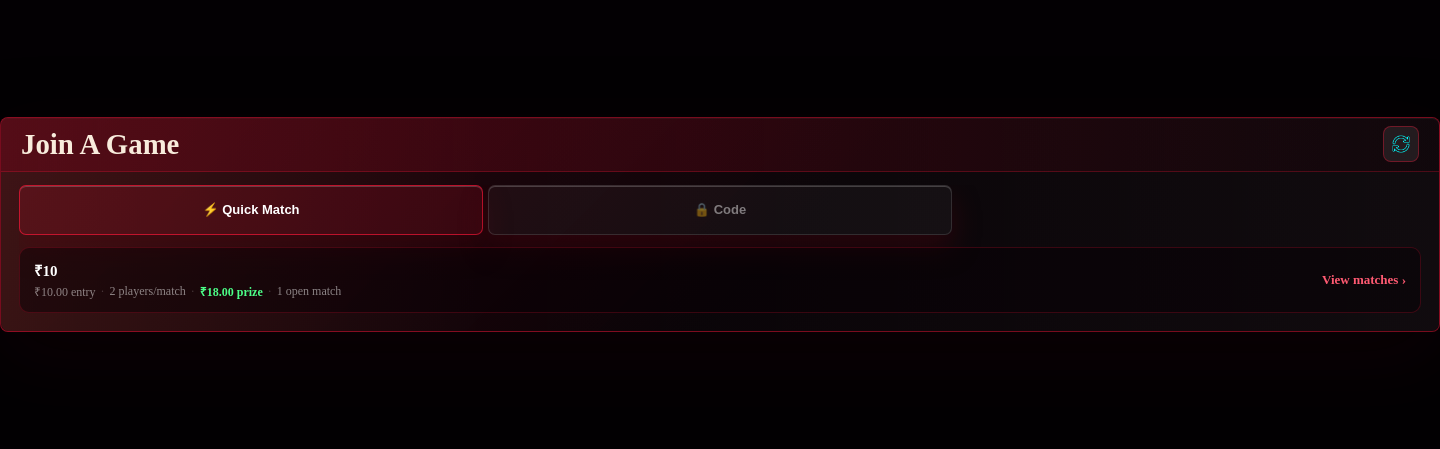
Test: Quick Match join errors › can be dismissed by the player
The image size is (1440, 449).
Click the text "₹10".
click(46, 270)  # box left=34, top=262, right=58, bottom=278
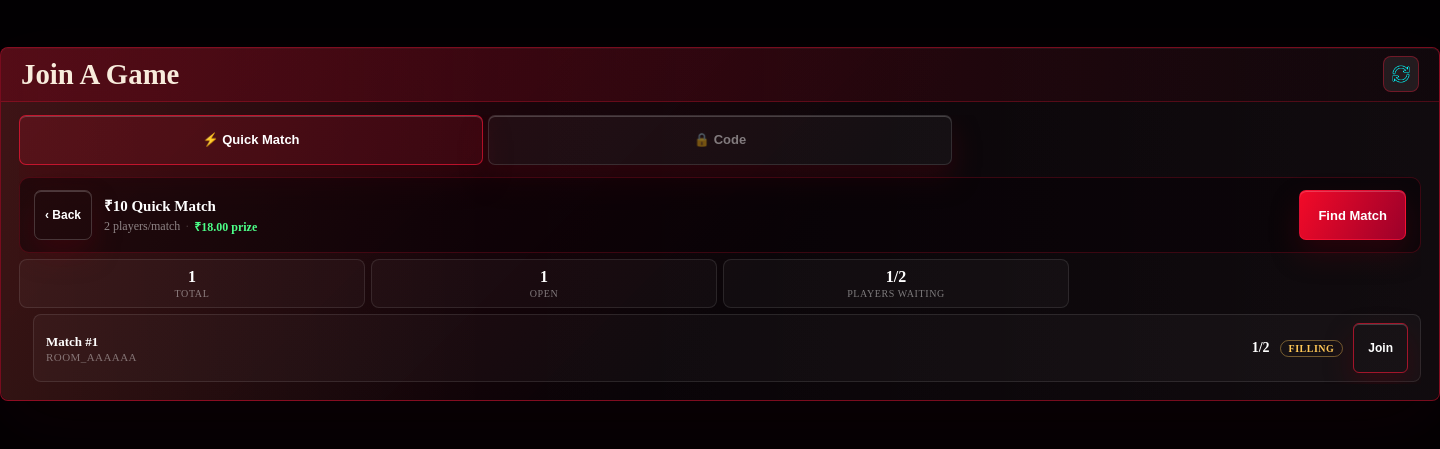
Click the button "Join".
click(1381, 348)  # box left=1353, top=323, right=1408, bottom=373
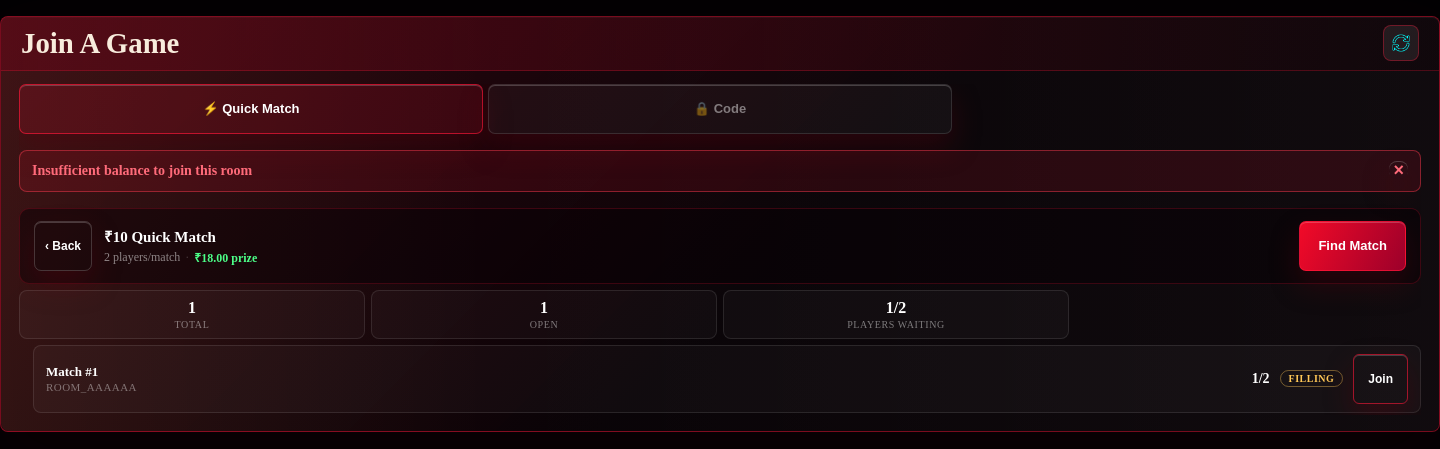
Expected: the text "Insufficient balance to join this room" is shown, left=32, top=161, right=252, bottom=181
Click the button named "Dismiss".
click(1399, 170)  # box left=1390, top=161, right=1408, bottom=179
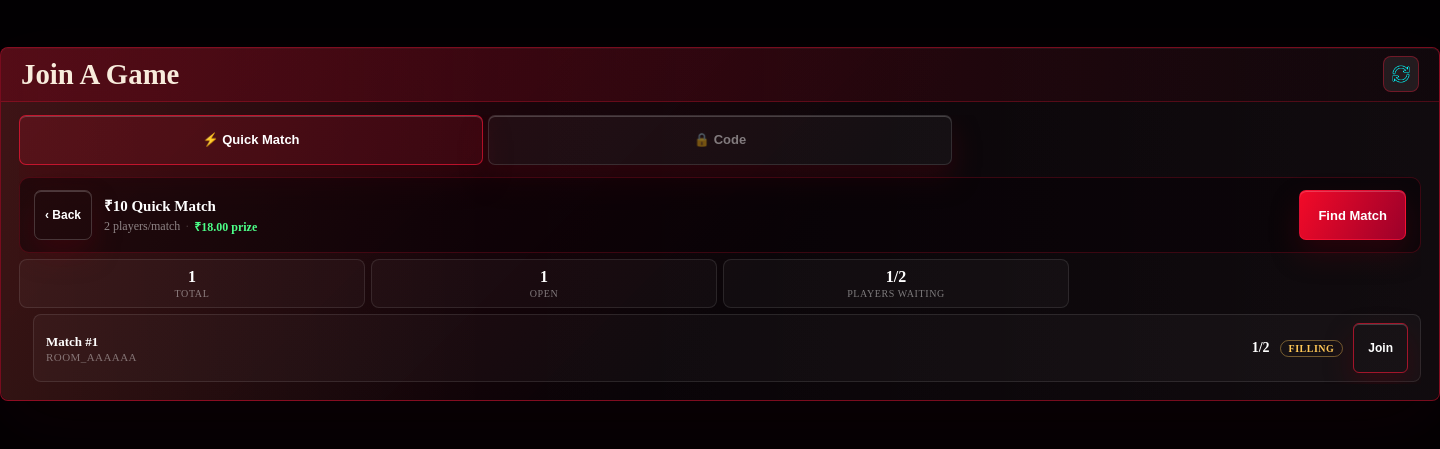
Expected: the text "Insufficient balance to join this room" is gone
